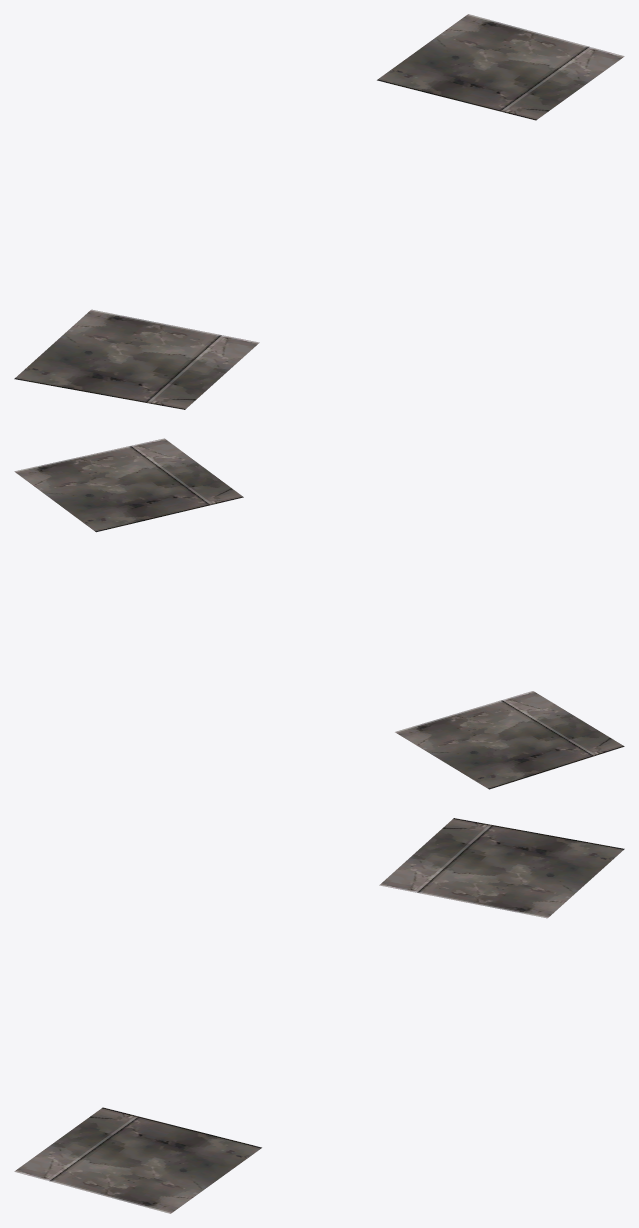
File: CH09_SMAUG_PLAYSURFACE_LAIR145.fbx
3 renders of one model, top to bottom at view 1: azimuth 90°, elevation 25°; view 2: azimuth 150°, elevation 25°; view 3: azimuth 270°, elevation 25°, orthographic. The views are drawn at different scales.
Parts seen in each view (by area): view 1: CH09_SMAUG_PLAYSURFACE_LAIR145; view 2: CH09_SMAUG_PLAYSURFACE_LAIR145; view 3: CH09_SMAUG_PLAYSURFACE_LAIR145.
Boxes of the visible parts, x1,y1,x2,y2 form: CH09_SMAUG_PLAYSURFACE_LAIR145: (14,14,624,409); CH09_SMAUG_PLAYSURFACE_LAIR145: (14,438,624,789); CH09_SMAUG_PLAYSURFACE_LAIR145: (14,818,624,1213).
Bounding box in the file's own units: 55506 × 0.00967 × 36194.
1 material, 1 textured.
